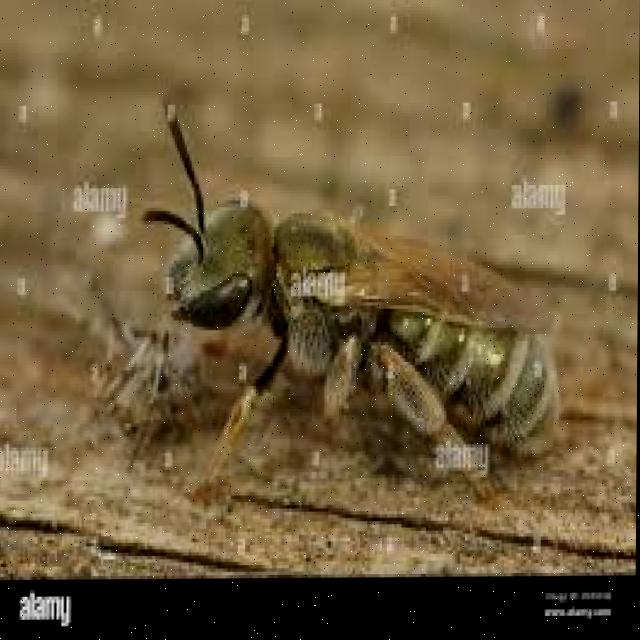Seladonia: (120, 102, 563, 518)
